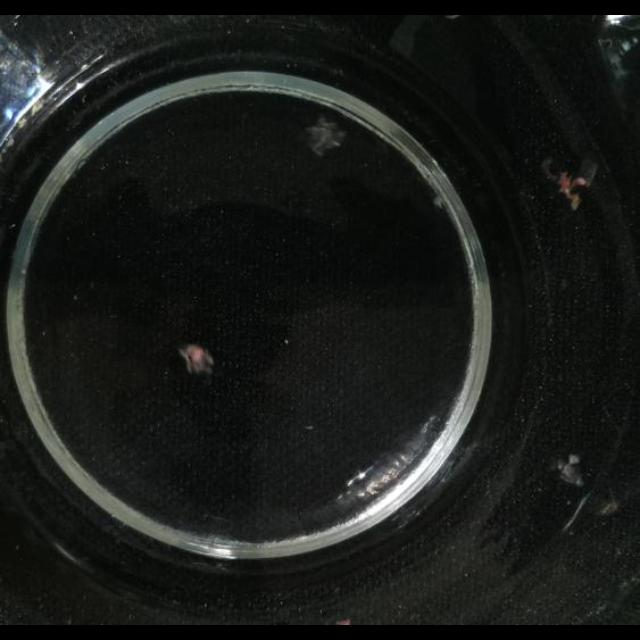Fragment: (543, 156, 593, 212), (173, 340, 215, 380), (305, 115, 345, 157), (554, 452, 584, 486)
microbeads: (432, 194, 446, 210), (283, 339, 289, 345)
